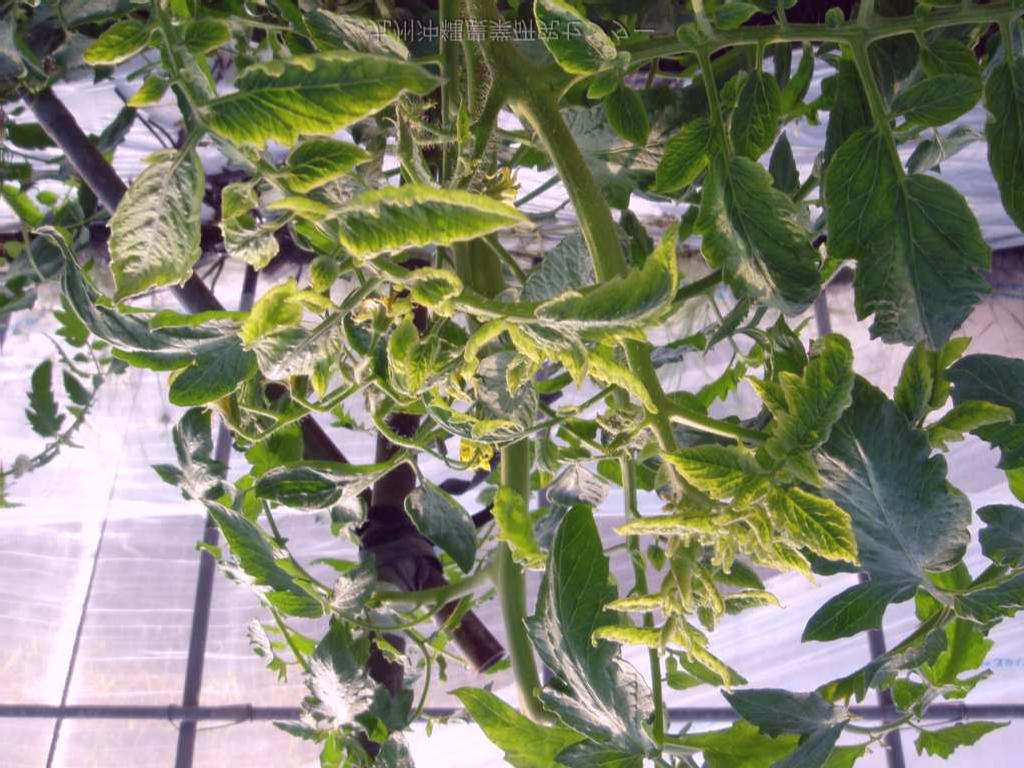Tomato leaf yellow virus: (202, 49, 449, 147), (98, 134, 228, 317), (545, 229, 690, 352), (318, 184, 545, 261), (764, 335, 860, 469), (508, 0, 632, 82), (771, 478, 865, 573), (236, 272, 313, 370), (668, 430, 764, 505)
